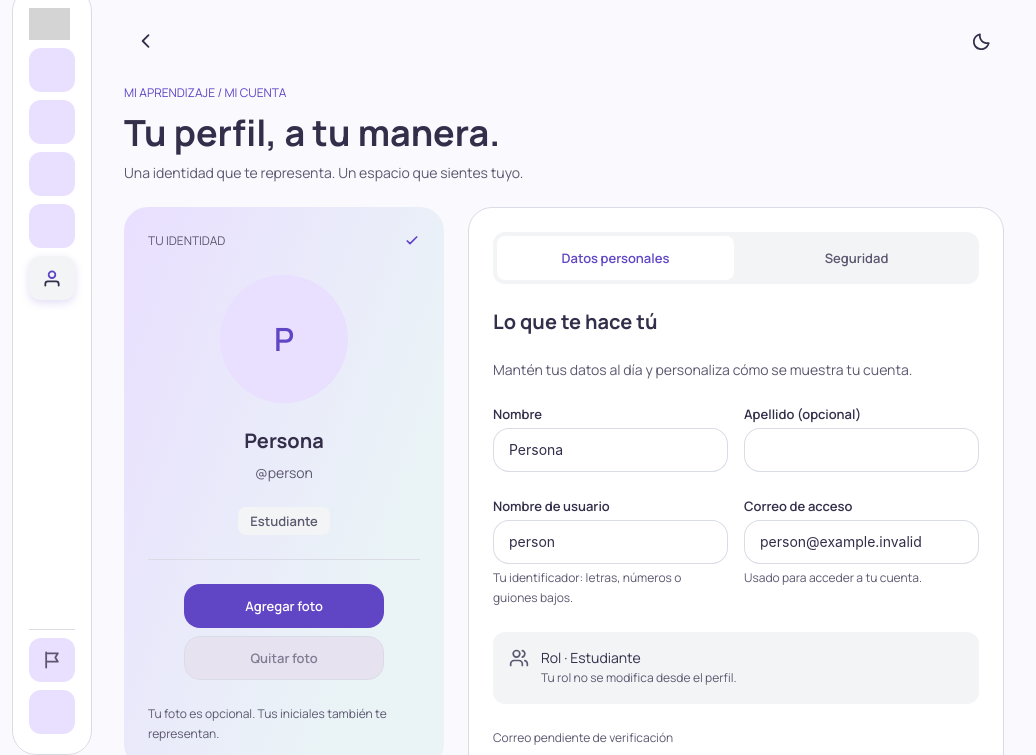
Test: perfil Student anuncia validación y enfoca el primer error sin enviar cambios
Clear the field labelled "Nombre": (610, 450) top-left (509, 440), bottom-right (712, 460)
(page scrolled)
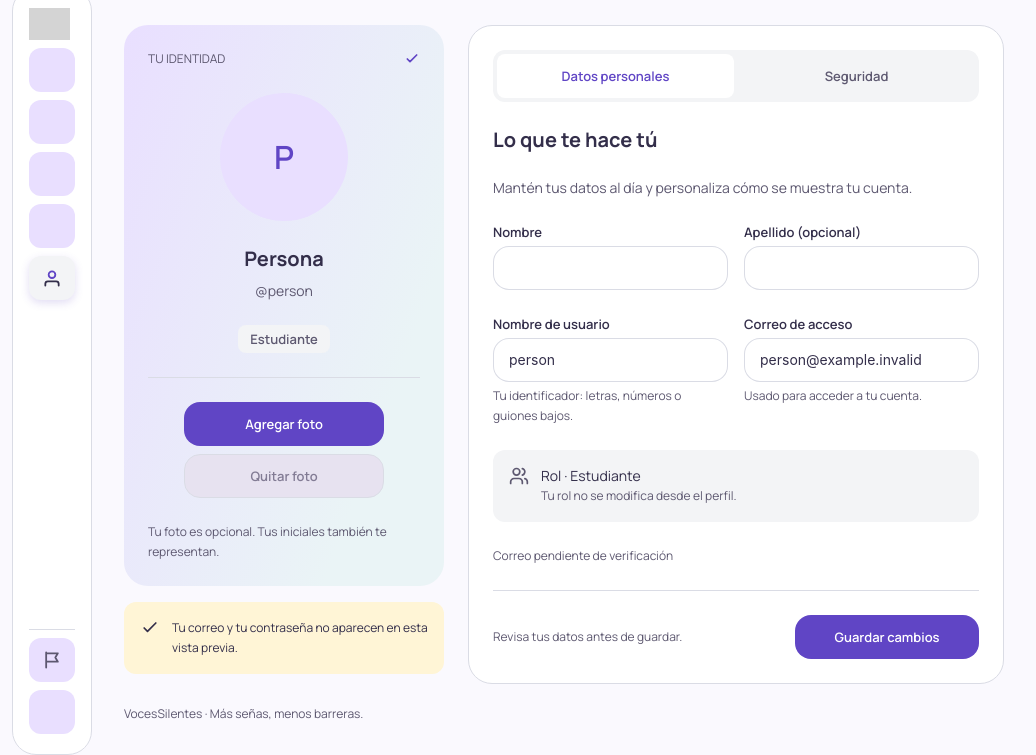
Click the button "Guardar cambios": (887, 638) top-left (795, 616), bottom-right (979, 660)
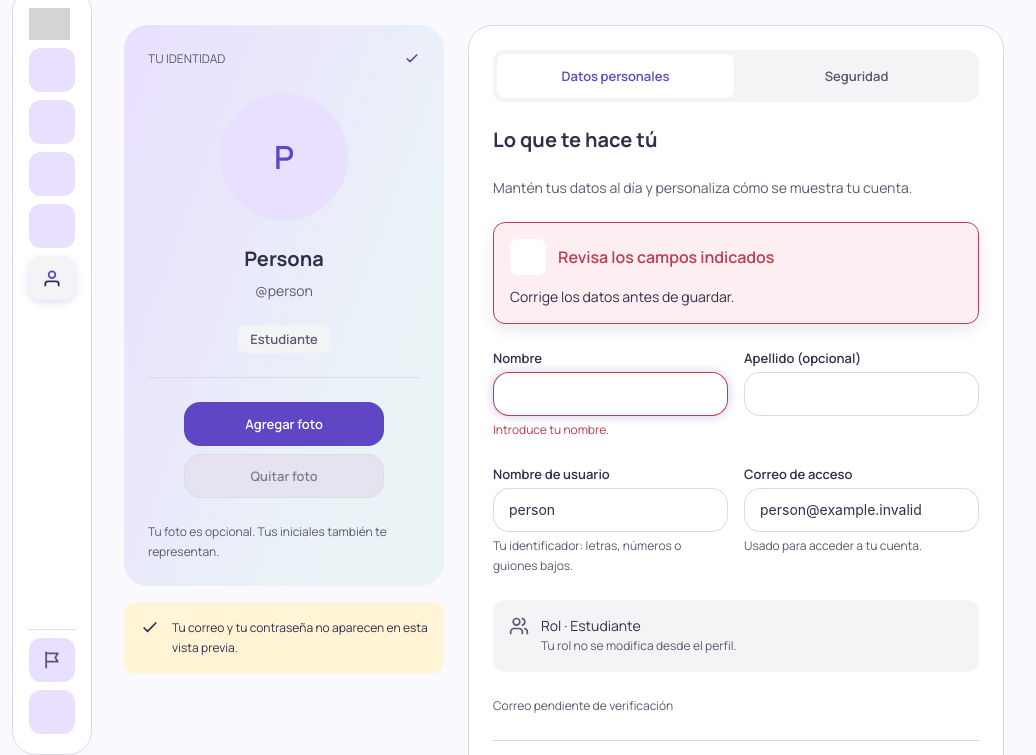
Check: the message shows "Revisa los campos indicados", box top-left (558, 246), bottom-right (774, 268)
